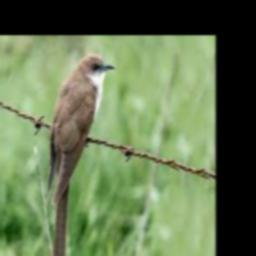Cuckoo: (47, 54, 116, 256)
